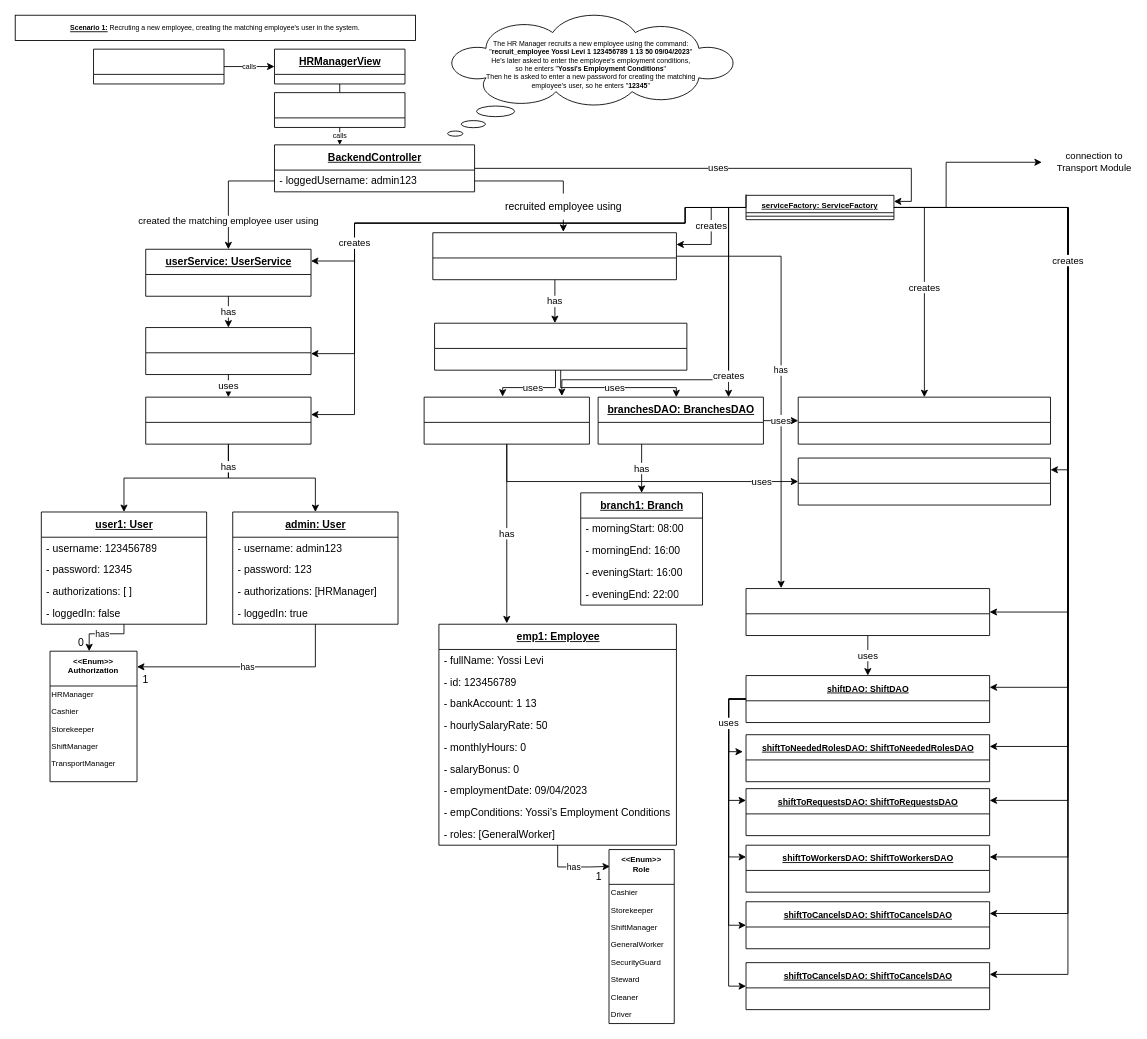
Some shapes in this 1147 by 1039 pixel diagram are drawn without their labels. The centre of each missing label's shape, as x and y in pixels:
"branchEmployees DAO: BranchEmployeesDAO" goes at point (924, 420).
"employeeRolesDAO: EmployeeRolesDAO" goes at point (924, 481).
"employeesController: EmployeesController" goes at point (560, 346).
"employeesDAO: EmployeesDAO" goes at point (506, 420).
"employeesService: EmployeesService" goes at point (554, 256).
"HRManagerViewVM" goes at point (339, 109).
"MenuManager" goes at point (158, 66).
"shiftsController: ShiftsController" goes at point (867, 612).
"userController: UserController" goes at point (228, 351).
"userDAO: UserDAO" goes at point (228, 420).
